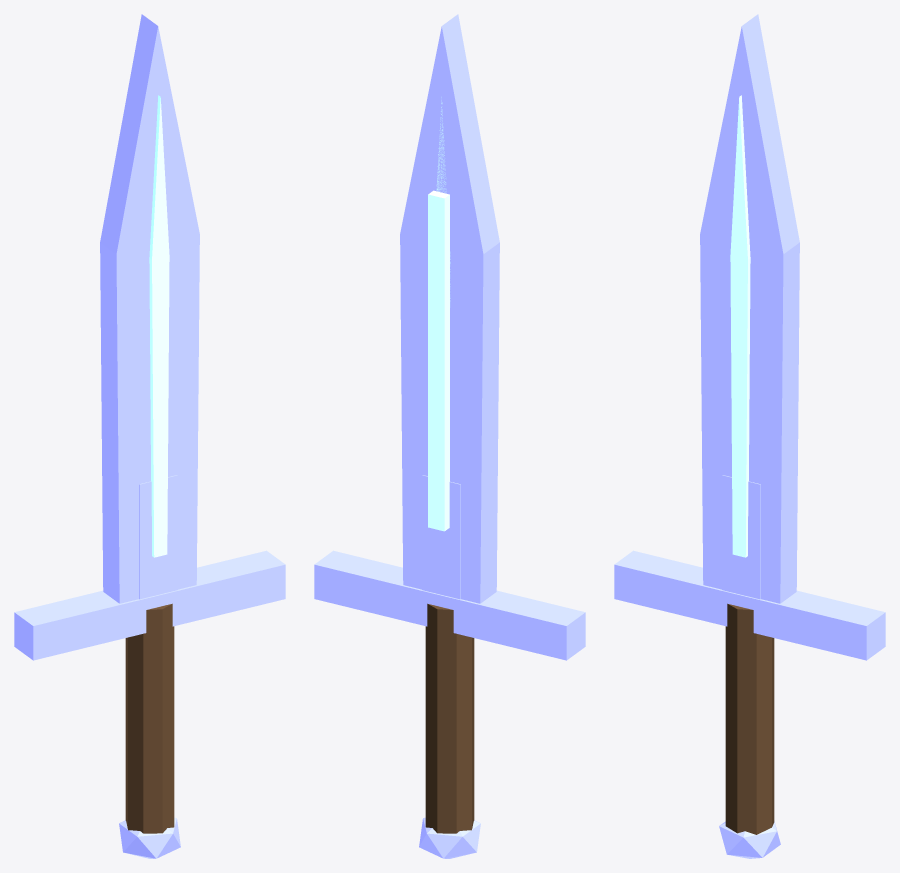
The model's file is nightBlade.glb.
3 views of the same model, side by side, from view 1: azimuth 30°, elevation 25°; view 2: azimuth 150°, elevation 25°; view 3: azimuth 330°, elevation 25° (orthographic).
Parts seen in each view (by area): view 1: Blade, Guard, Grip, BladeRidge, BladeTang, Pommel; view 2: Blade, Guard, Grip, NightGlow, BladeTang, Pommel; view 3: Blade, Guard, Grip, BladeRidge, BladeTang, Pommel.
Boxes of the visible parts, x1,y1,x2,y2 form: Blade: [100, 14, 199, 603]; Guard: [14, 550, 285, 660]; Grip: [125, 603, 174, 833]; BladeRidge: [149, 95, 169, 557]; BladeTang: [139, 475, 177, 599]; Pommel: [119, 817, 180, 858]; Blade: [400, 14, 499, 603]; Guard: [314, 550, 585, 660]; Grip: [425, 603, 474, 833]; NightGlow: [428, 190, 449, 531]; BladeTang: [422, 475, 460, 599]; Pommel: [419, 817, 480, 858]; Blade: [700, 14, 799, 603]; Guard: [614, 550, 885, 660]; Grip: [725, 603, 774, 834]; BladeRidge: [730, 95, 750, 557]; BladeTang: [722, 475, 760, 599]; Pommel: [719, 821, 780, 858].
Bounding box in the file's own units: 0.46 × 1.46 × 0.0936.
